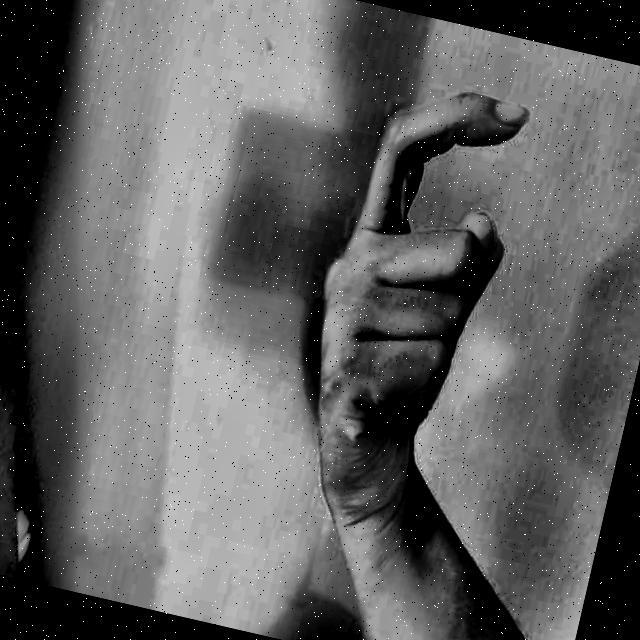E: (248, 26, 583, 552)
